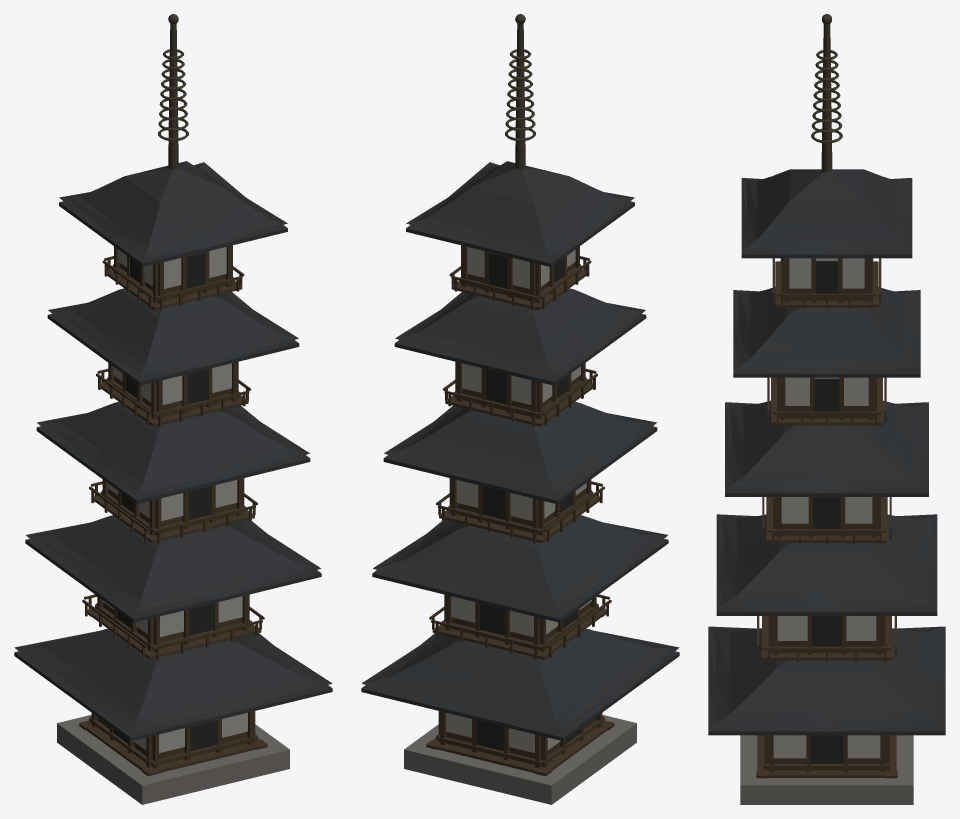
File: yasaka.glb
3 renders of one model, left to right at view 1: azimuth 30°, elevation 25°; view 2: azimuth 150°, elevation 25°; view 3: azimuth 270°, elevation 25°, orthographic.
Bounding box in the file's own units: 13.12 × 46 × 13.12.
